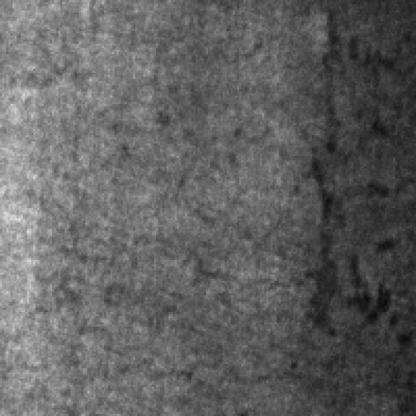crazing: (54, 237, 300, 383), (302, 4, 401, 339)
